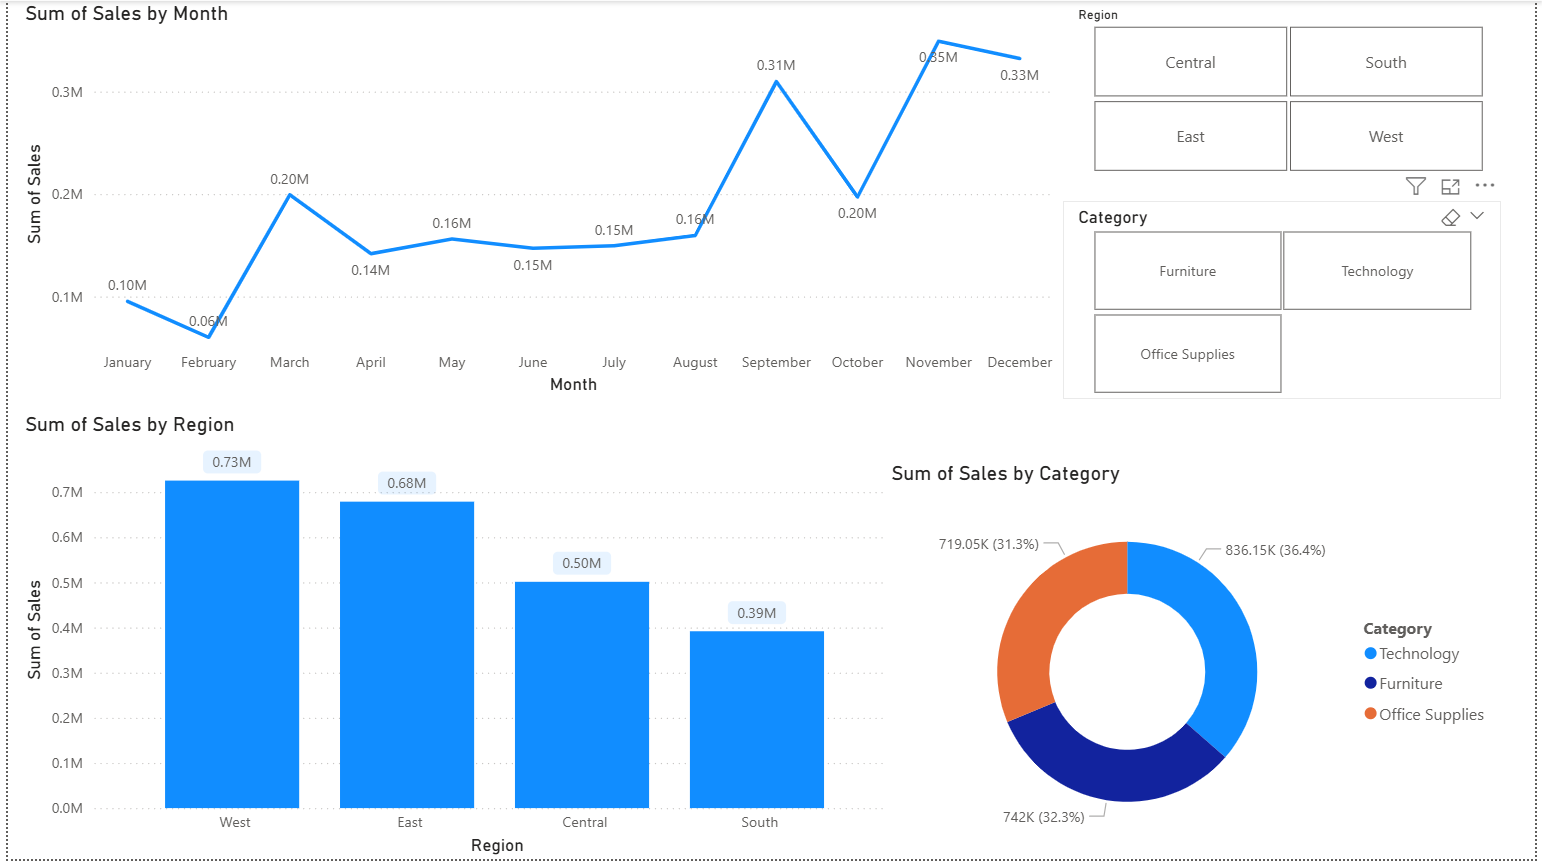

The dashboard page shown, as its layout file describes it:
{"tool":"powerbi","page":{"name":"Page 1","canvas":[1280,720],"ordinal":0},"visuals":[{"type":"lineChart","fields":{"Y":["Sum(Superstore.Sales)"],"Category":["Superstore.Order Date.Variation.Date Hierarchy.Year","Superstore.Order Date.Variation.Date Hierarchy.Quarter","Superstore.Order Date.Variation.Date Hierarchy.Month","Superstore.Order Date.Variation.Date Hierarchy.Day"]},"box":[9.6,0,875.5,334.8],"z":0},{"type":"columnChart","fields":{"Y":["Sum(Superstore.Sales)"],"Category":["Superstore.Region"]},"box":[9.6,344.4,743.7,376],"z":1},{"type":"donutChart","fields":{"Y":["Sum(Superstore.Sales)"],"Category":["Superstore.Category"]},"box":[735.5,385.6,516,334.8],"z":2},{"type":"slicer","fields":{"Values":["Superstore.Region"]},"box":[885.1,0,376,149.6],"z":3},{"type":"slicer","fields":{"Values":["Superstore.Category"]},"box":[885.1,167.4,366.4,167.4],"z":4}]}

Visuals, with their boxes in screenshot pixels (x1, y1, x2, y2), scaled from the page's 1280x720 canvas onto the 1542x867 screenshot:
lineChart - Sum(Superstore.Sales) x Superstore.Order Date.Variation.Date Hierarchy.Year: 12, 0, 1066, 403
columnChart - Sum(Superstore.Sales) x Superstore.Region: 12, 415, 907, 866
donutChart - Sum(Superstore.Sales) x Superstore.Category: 886, 464, 1508, 866
slicer - Superstore.Region: 1066, 0, 1519, 180
slicer - Superstore.Category: 1066, 202, 1508, 403
